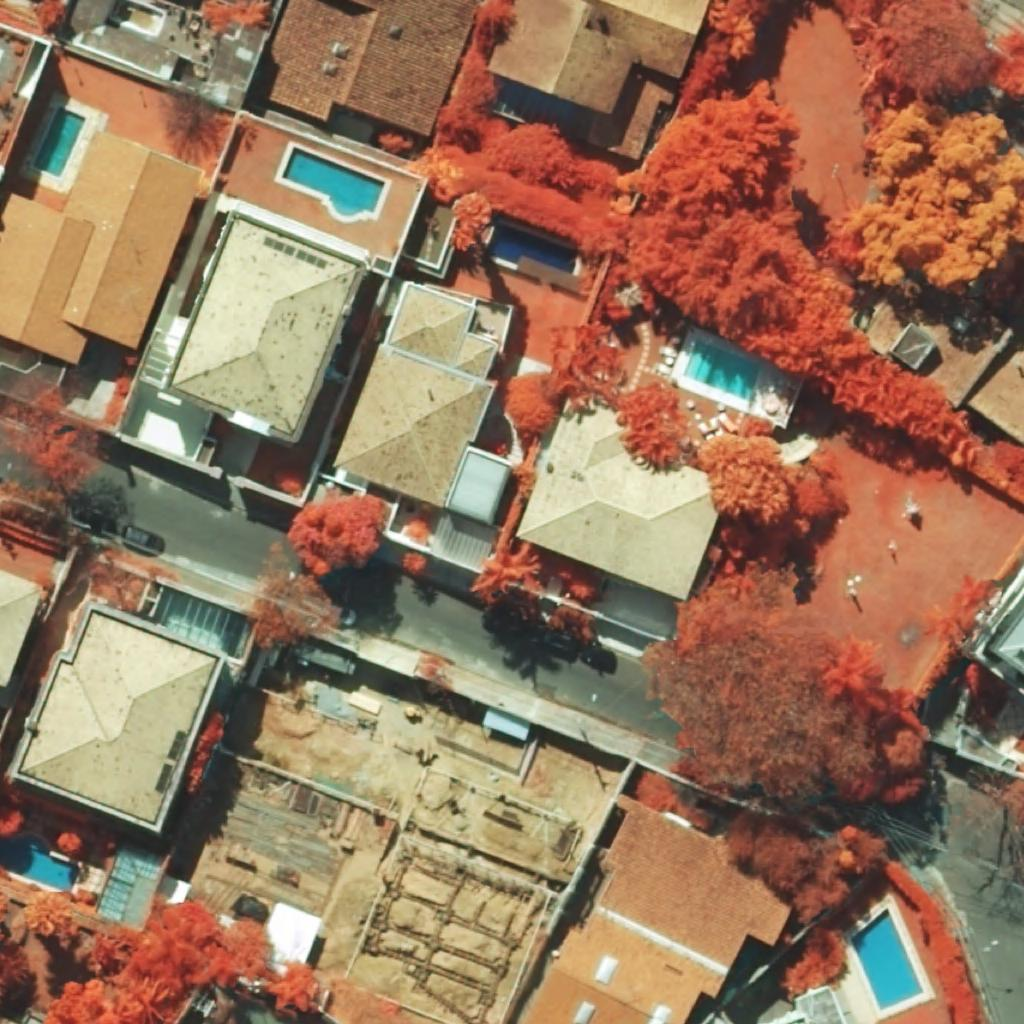pool: (851, 907, 924, 1010), (282, 147, 385, 217), (0, 833, 80, 892), (683, 340, 761, 400), (487, 222, 576, 274), (33, 107, 86, 178)
